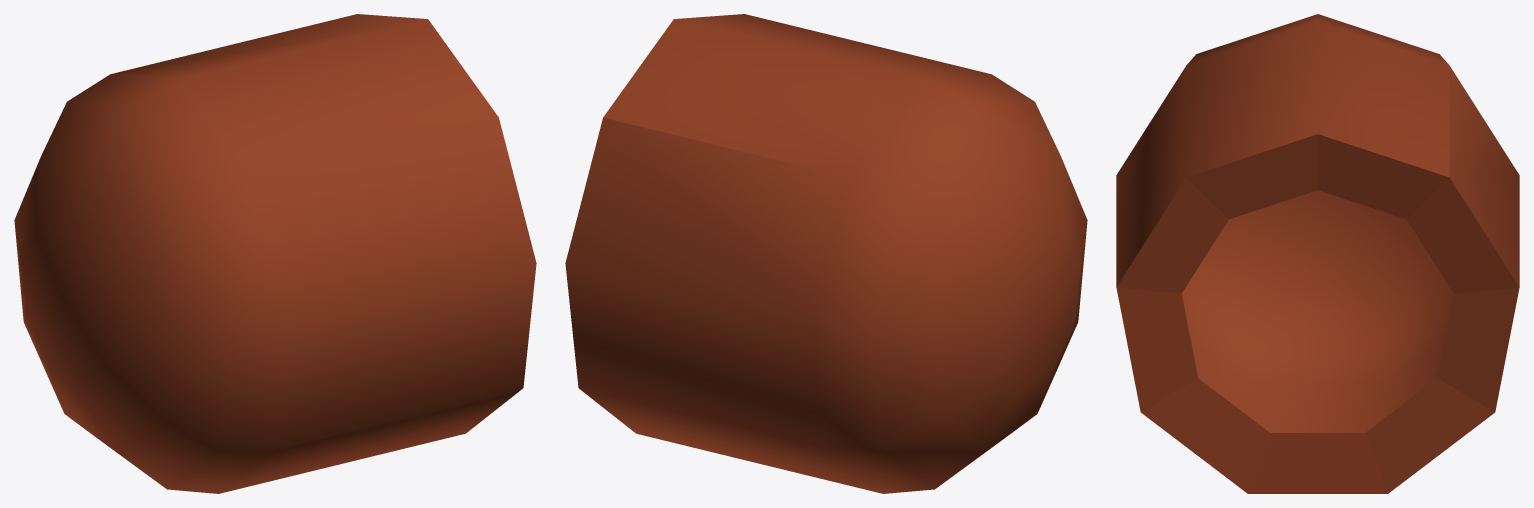
The model's file is gloves.fbx.
The picture shows the model from 3 angles, left to right: view 1: azimuth 30°, elevation 25°; view 2: azimuth 150°, elevation 25°; view 3: azimuth 270°, elevation 25°; orthographic projection. The views are drawn at different scales.
Visible parts, largest first — view 1: Capsule003.001; view 2: Capsule003.001; view 3: Capsule003.001.
Part boxes in pixels (box(x1,y1,x2,y2)): Capsule003.001: box(14, 14, 536, 493); Capsule003.001: box(565, 14, 1087, 493); Capsule003.001: box(1116, 14, 1519, 493).
Size of the model in its own units: 24.59 by 24.29 by 24.67.
